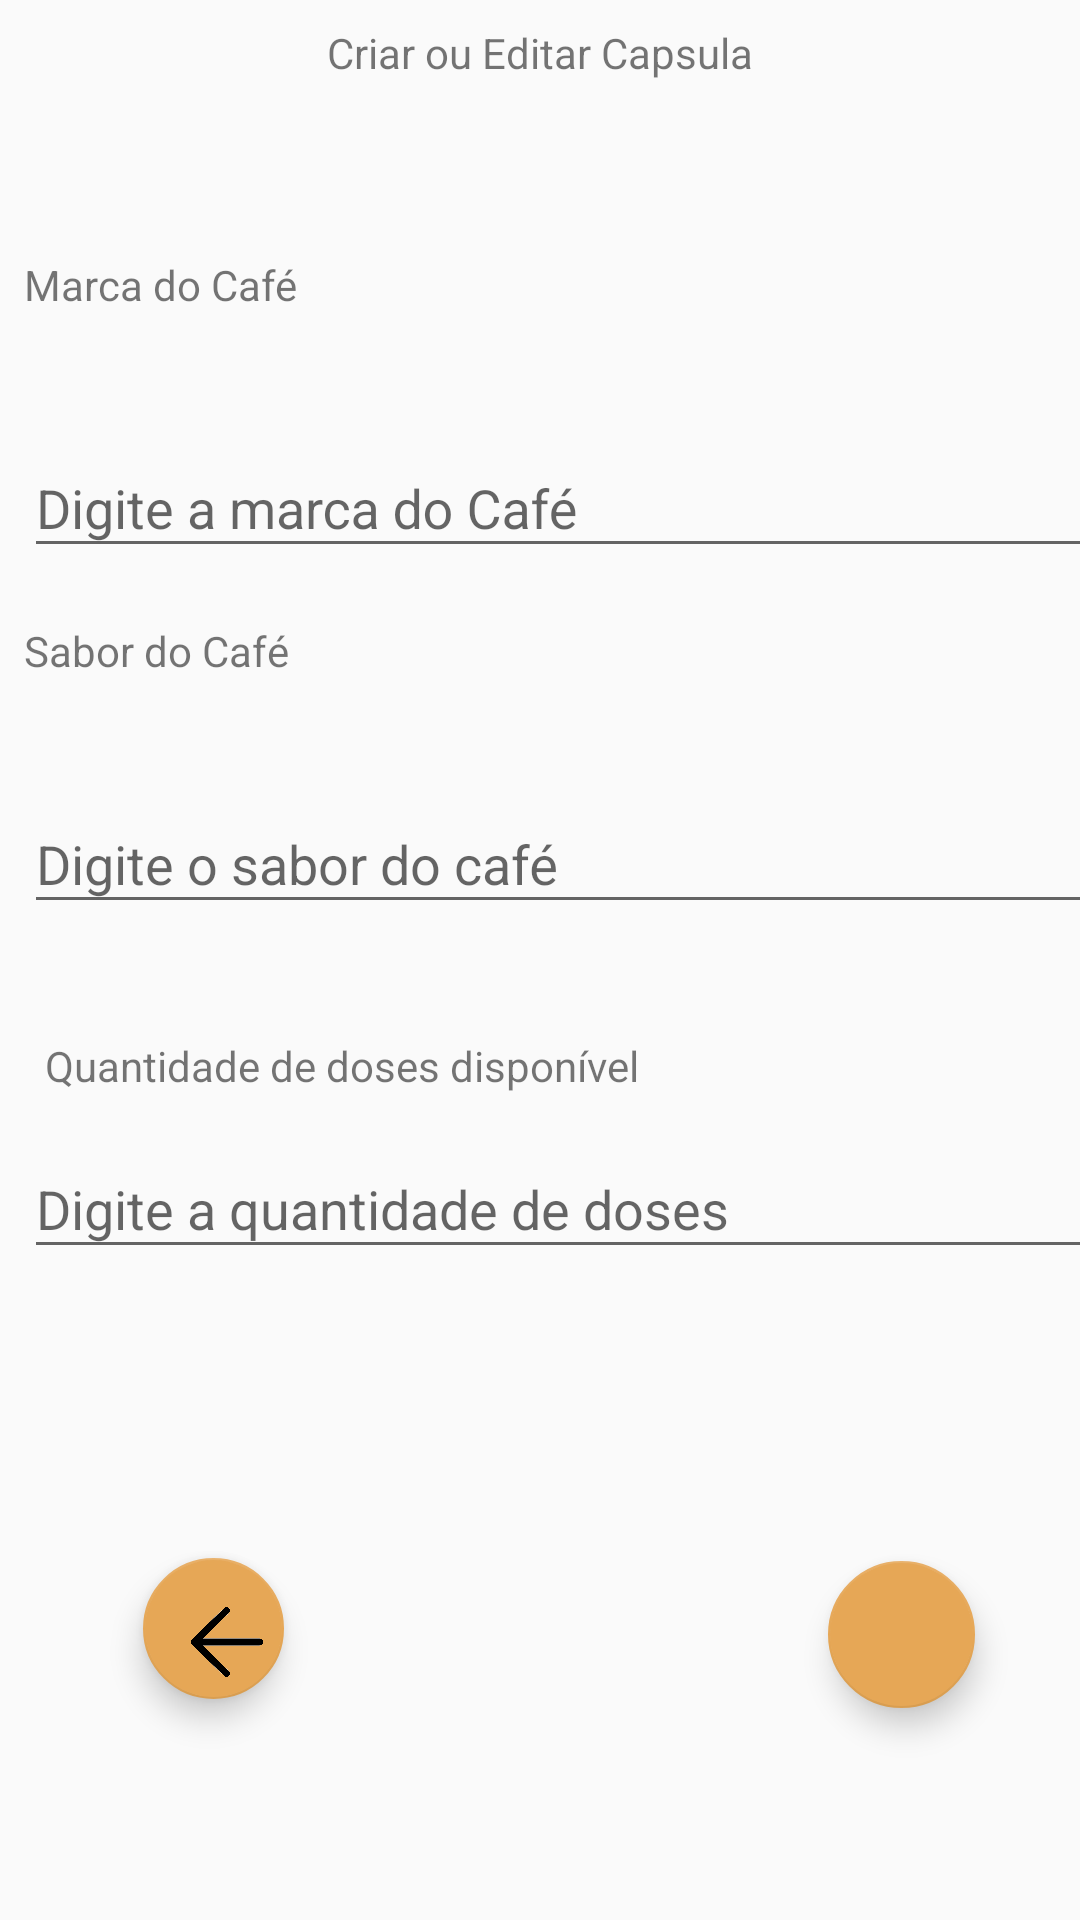

Point at icon controls on the screen. Image size 1080*1920, points as (x,y).
back: (213,1628)
